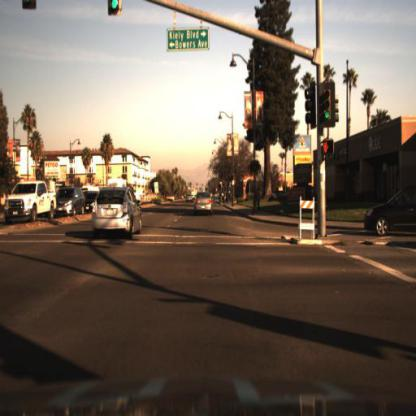car: (90, 187, 145, 243), (368, 184, 416, 242), (1, 178, 60, 225), (52, 184, 86, 222), (193, 187, 218, 220), (81, 193, 101, 224), (184, 193, 196, 204)
pedestrian: (253, 181, 262, 215)
trafficLight-Green: (322, 88, 335, 126)
